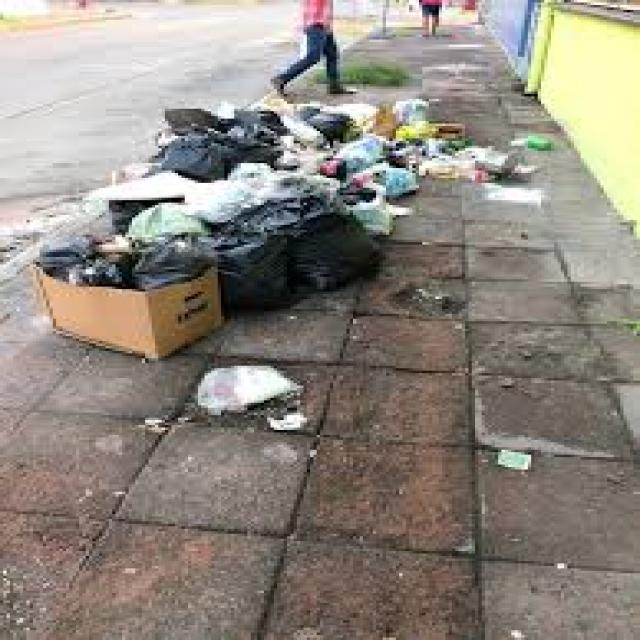garbage: (26, 57, 522, 366), (181, 358, 335, 446), (485, 436, 545, 478), (506, 129, 574, 156)
